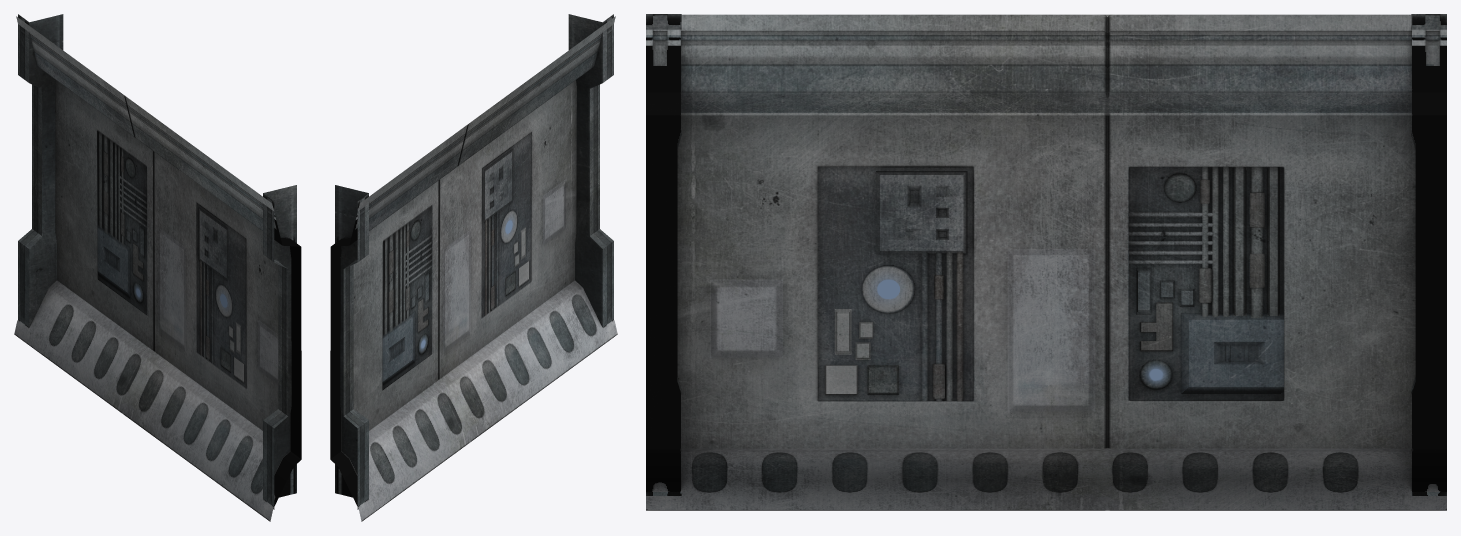
The model's file is Wall1.fbx.
3 renders of one model, left to right at view 1: azimuth 30°, elevation 25°; view 2: azimuth 150°, elevation 25°; view 3: azimuth 270°, elevation 25°, orthographic. The views are drawn at different scales.
Parts seen in each view (by area): view 1: Wall1; view 2: Wall1; view 3: Wall1.
Boxes of the visible parts, box(x1,y1,x2,y2) form: Wall1: box(14, 14, 301, 521); Wall1: box(330, 14, 617, 521); Wall1: box(646, 14, 1446, 510).
Bounding box in the file's own units: 17.06 × 138 × 200.
